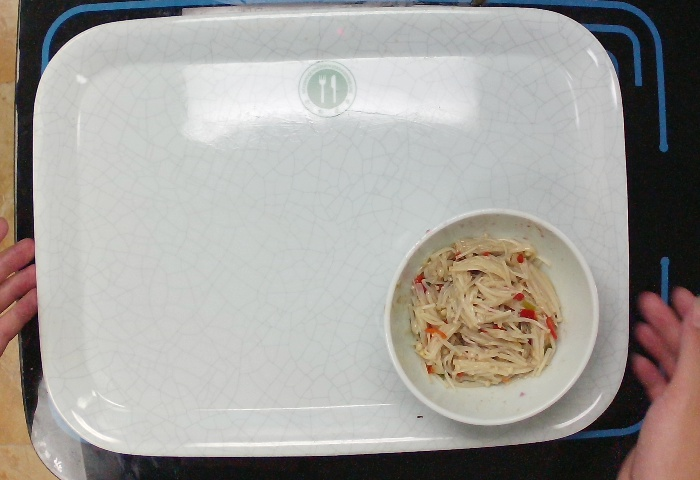JYsf-Fan_Wan: (380, 208, 601, 429)
